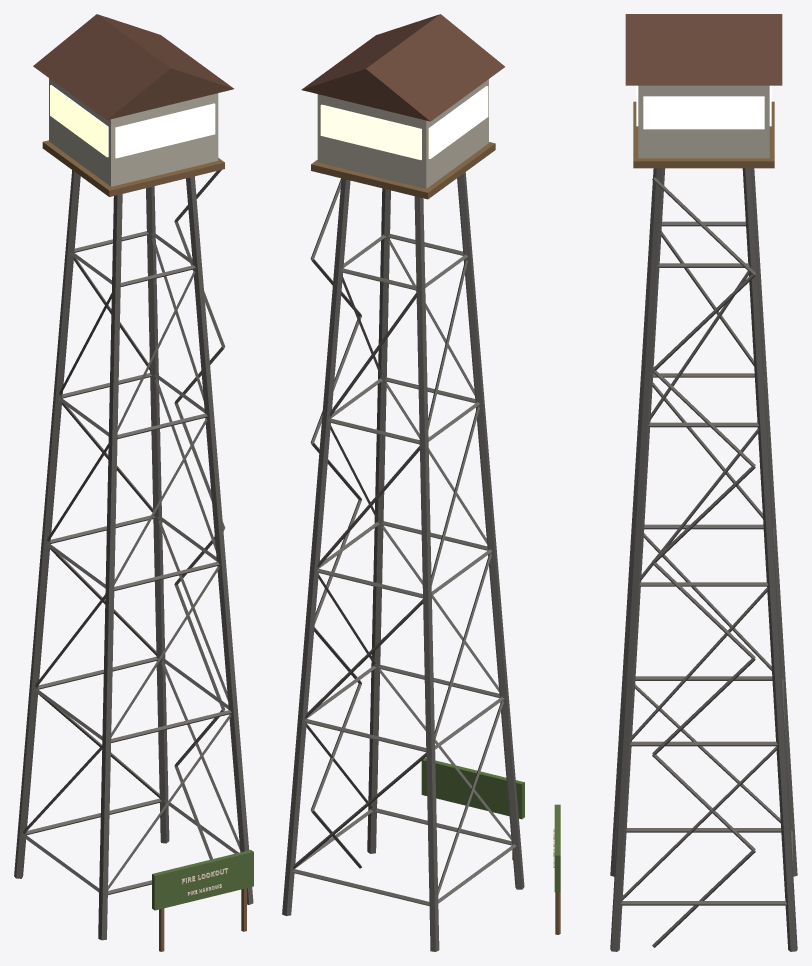
The model's file is fire_tower.glb.
3 renders of one model, left to right at view 1: azimuth 30°, elevation 25°; view 2: azimuth 150°, elevation 25°; view 3: azimuth 270°, elevation 25°, orthographic. The views are drawn at different scales.
Parts seen in each view (by area): view 1: fire_tower; view 2: fire_tower; view 3: fire_tower.
Part boxes in pixels (x1,y1,x2,y2): fire_tower: (14,14,253,951); fire_tower: (282,14,524,951); fire_tower: (553,14,797,951).
Size of the model in its own units: 3.71 by 19.67 by 4.84.
